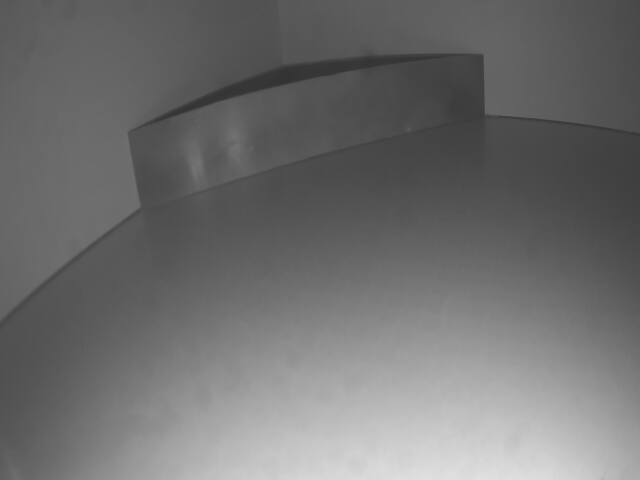Green: (132, 54, 484, 212)
